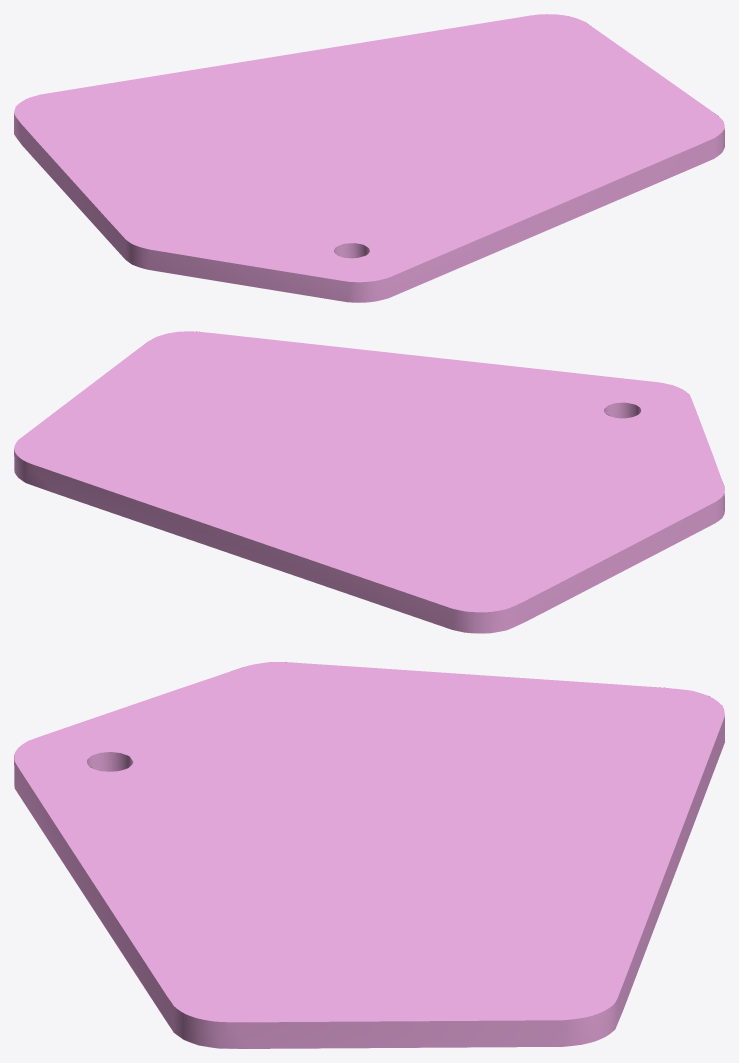
The picture shows the model from 3 angles, top to bottom: view 1: azimuth 30°, elevation 25°; view 2: azimuth 150°, elevation 25°; view 3: azimuth 270°, elevation 25°; orthographic projection. The views are drawn at different scales.
Visible parts, largest first — view 1: path22.001; view 2: path22.001; view 3: path22.001.
Part boxes in pixels (<box>): path22.001: <box>14,14,724,302</box>; path22.001: <box>14,331,724,633</box>; path22.001: <box>14,662,724,1048</box>.
Size of the model in its own units: 29.04 by 1 by 24.22.
